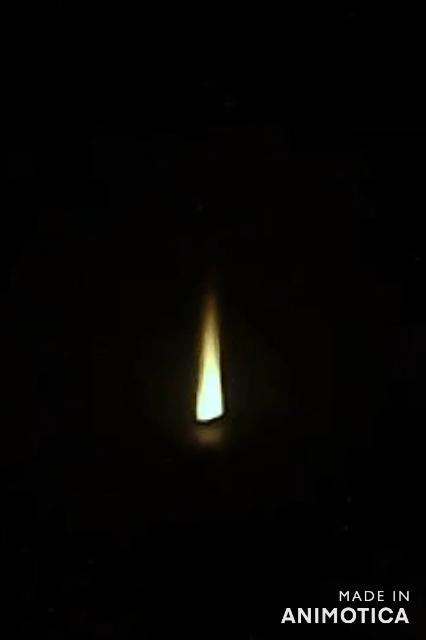burner flame: (193, 288, 227, 422)
